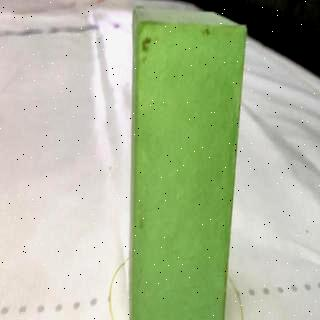greenbox: (130, 5, 248, 320)
